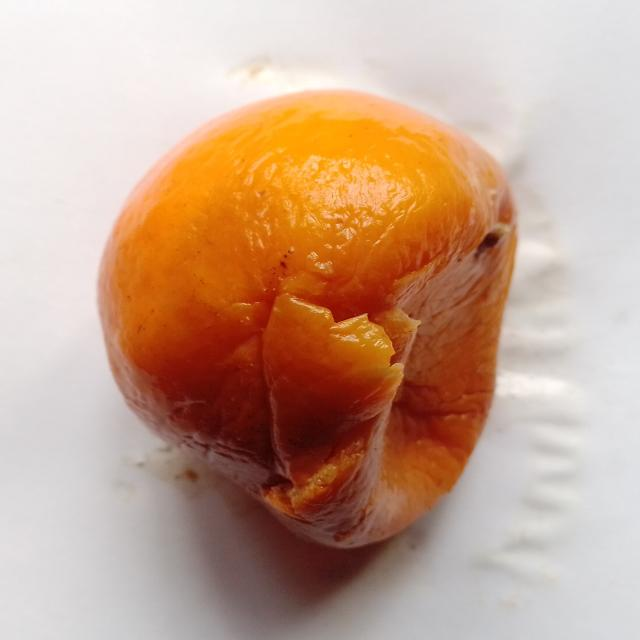orange: (100, 92, 515, 546)
